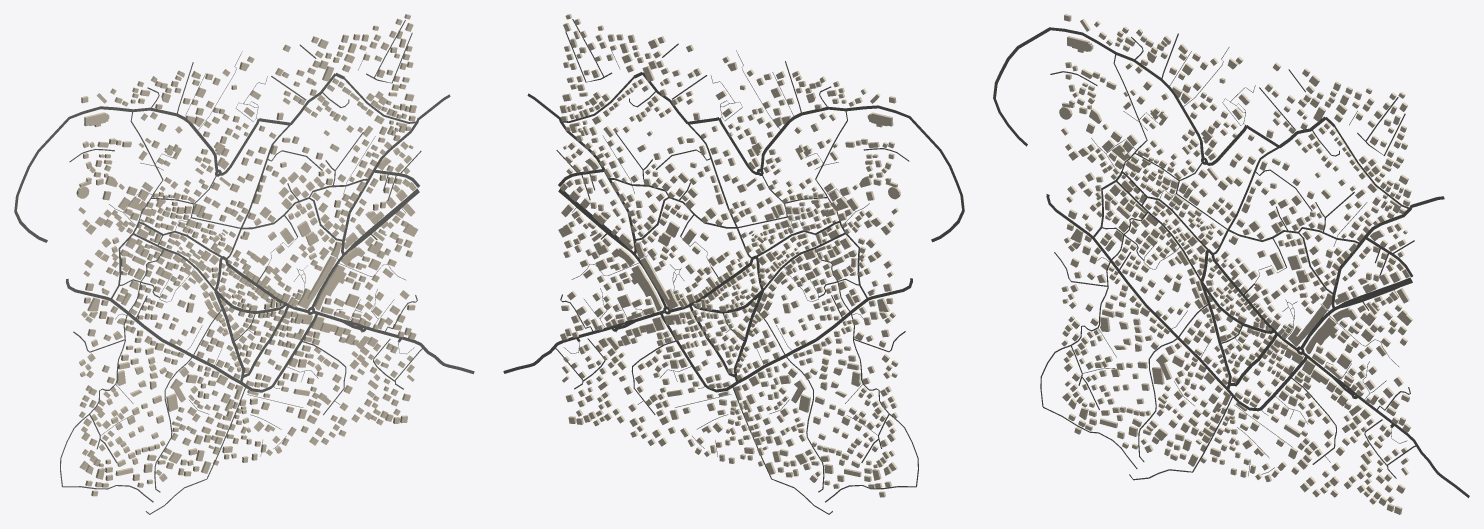
File: historic-palestine-08_32_3504_3269.glb
The picture shows the model from 3 angles, left to right: view 1: azimuth 30°, elevation 25°; view 2: azimuth 150°, elevation 25°; view 3: azimuth 330°, elevation 25°; orthographic projection. The views are drawn at different scales.
Visible parts, largest first — view 1: Road عين الشمالية, Road شكيب ارسلان, Road الصوانية; view 2: Road عين الشمالية, Road شكيب ارسلان; view 3: Road عين الشمالية, Road شكيب ارسلان, Road الصوانية.
Boxes of the visible parts, left/top/right/bottom form: Road عين الشمالية: left=14, top=106, right=218, bottom=242; Road شكيب ارسلان: left=66, top=278, right=240, bottom=383; Road الصوانية: left=341, top=94, right=450, bottom=255; Road عين الشمالية: left=760, top=105, right=964, bottom=242; Road شكيب ارسلان: left=737, top=278, right=912, bottom=383; Road عين الشمالية: left=993, top=27, right=1204, bottom=158; Road شكيب ارسلان: left=1046, top=194, right=1227, bottom=389; Road الصوانية: left=1331, top=196, right=1444, bottom=308.
Size of the model in its own units: 1324 by 1215 by 8.7.
